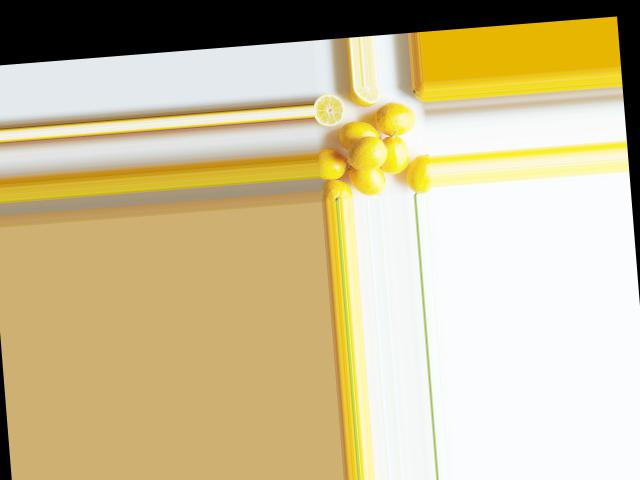lemon: (318, 149, 348, 180)
